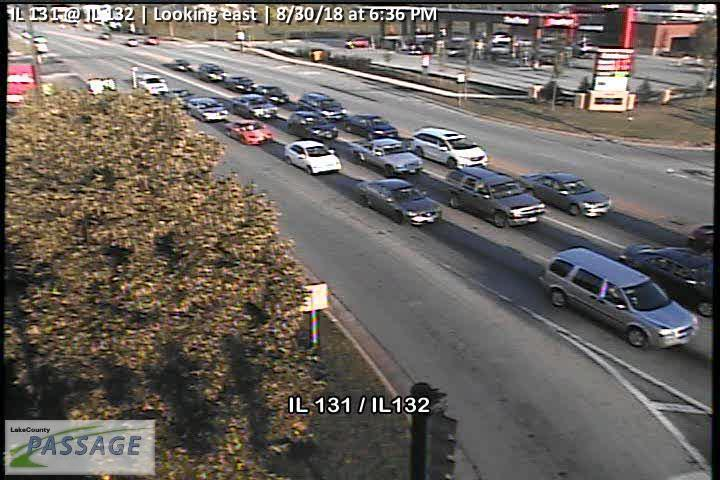SUV: (536, 246, 701, 351), (444, 167, 548, 229), (409, 125, 488, 169), (298, 90, 348, 123), (286, 110, 339, 141), (197, 61, 226, 82)
Sedan: (617, 242, 720, 317), (518, 170, 615, 218), (355, 176, 442, 228), (284, 139, 342, 177), (341, 113, 400, 142), (226, 91, 278, 120), (223, 118, 274, 146), (184, 96, 229, 123), (253, 83, 288, 105), (164, 86, 194, 109), (135, 73, 167, 94), (223, 74, 258, 92), (169, 57, 191, 72)
Truck: (348, 136, 424, 178)
